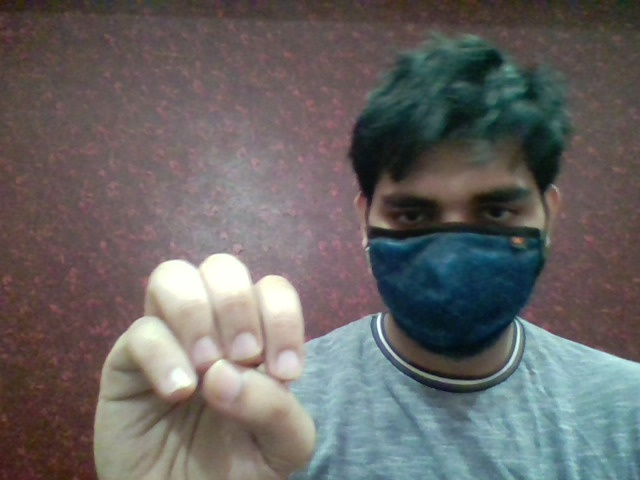e: (84, 246, 324, 480)
